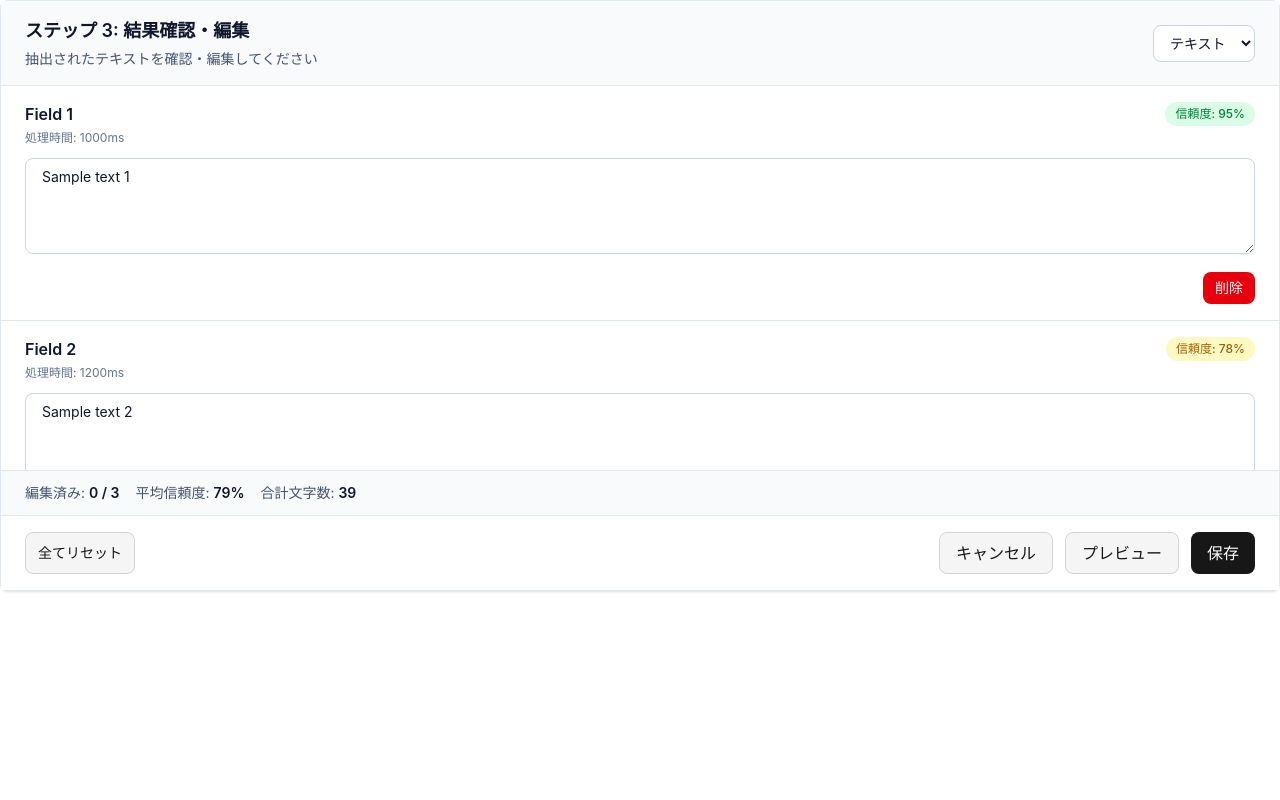
Scenario: ResultEditor Component › TC-003: リセット機能 › TC-003-001: should reset individual result
#  テキストを編集
Step 1. Clear the text box showing "Sample text 1" below "処理時間: 1000ms" → (640, 206), box [25, 158, 1255, 254]
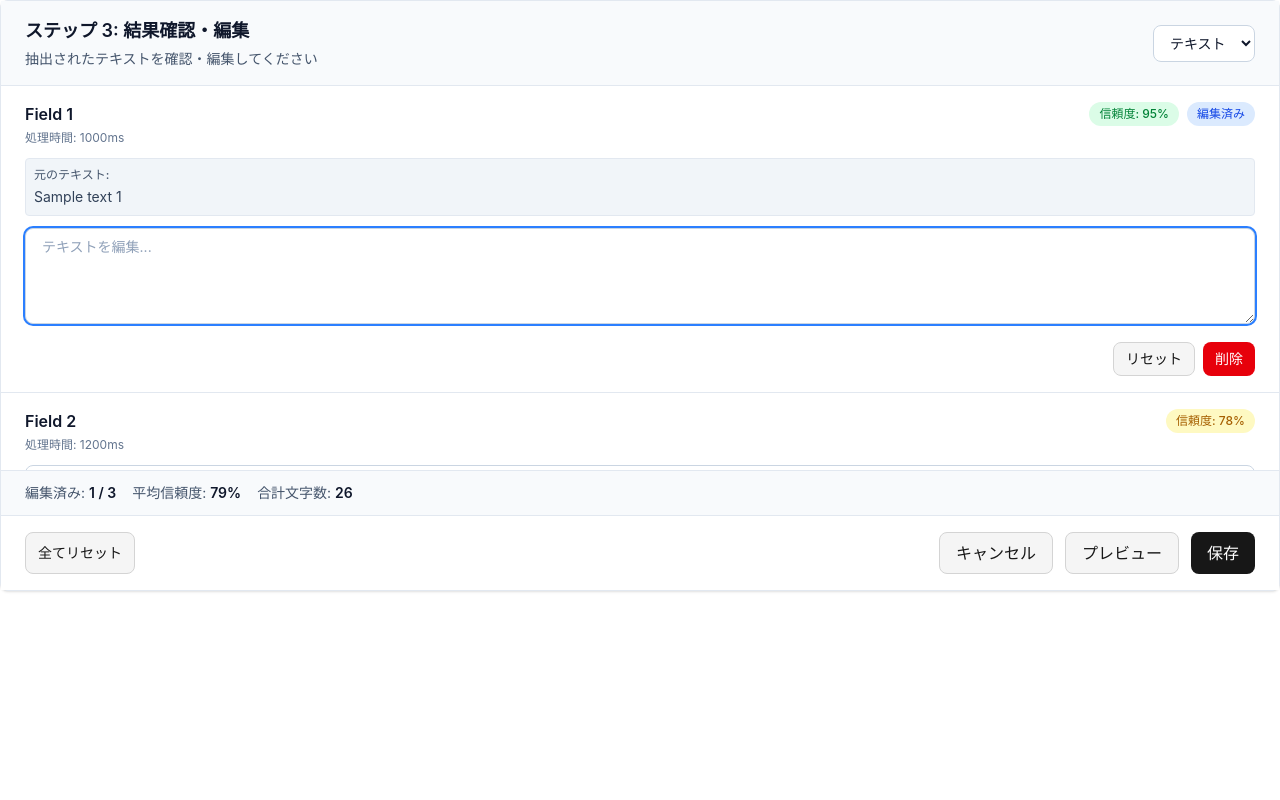
Step 2. Type "Modified text" into the text box showing "Sample text 1" → (640, 276), box [25, 228, 1255, 324]
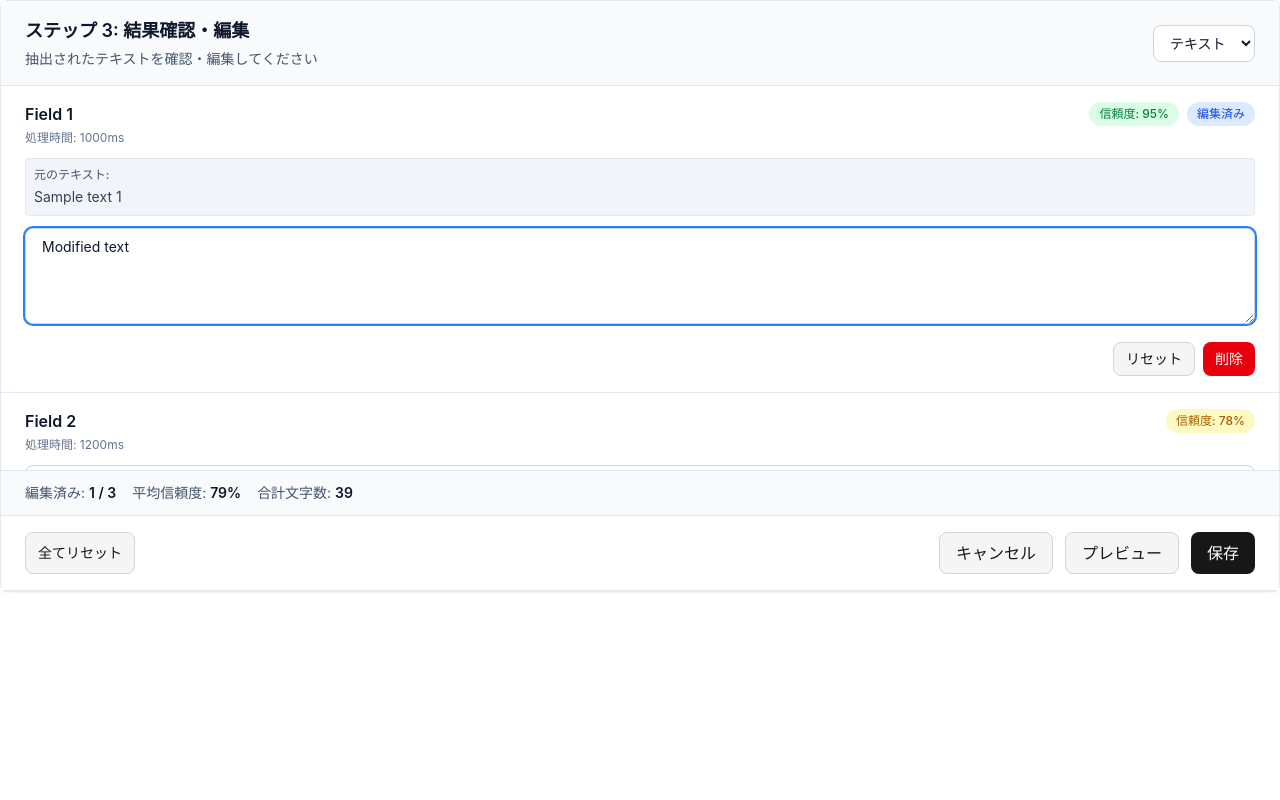
Now the button "リセット" is shown
Step 3. Click the button "リセット" → (1154, 359), box [1113, 342, 1195, 376]
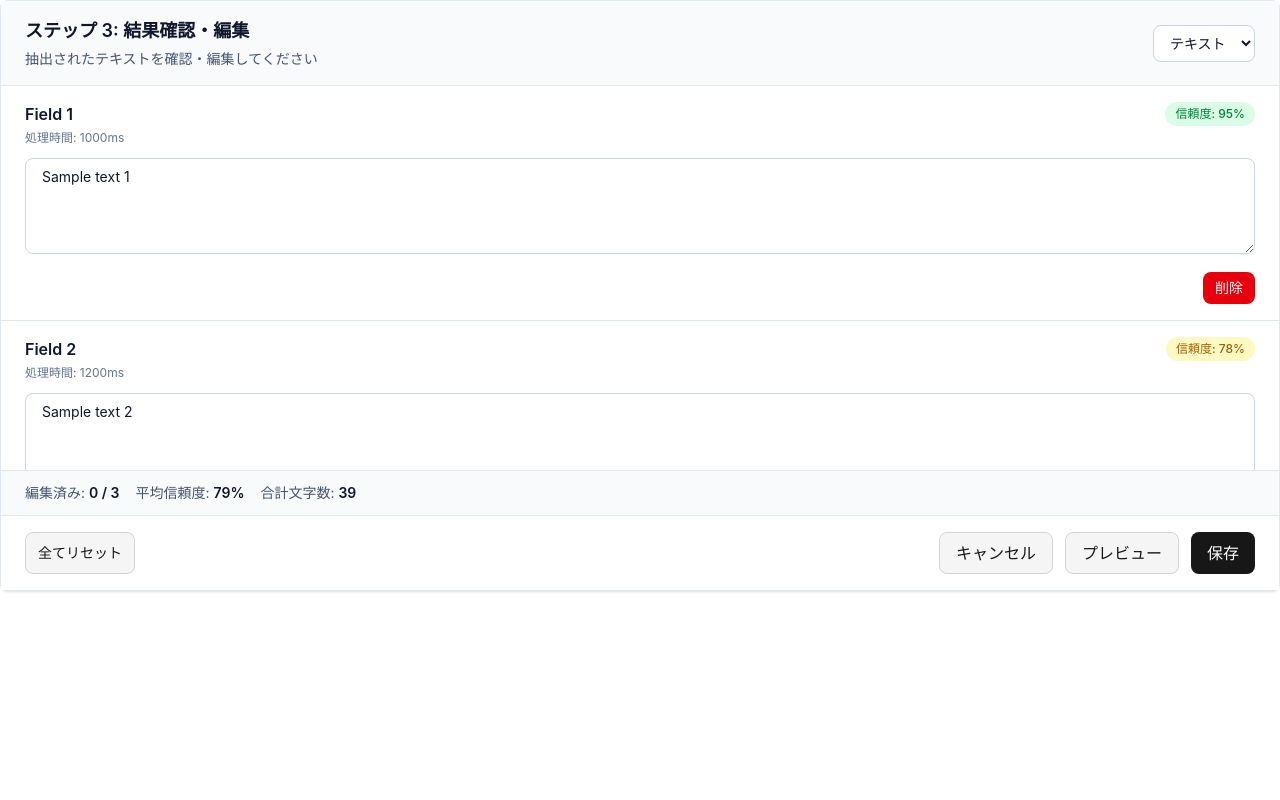
Now the text box showing "Sample text 1" below "処理時間: 1000ms" is shown, box [25, 158, 1255, 254]
